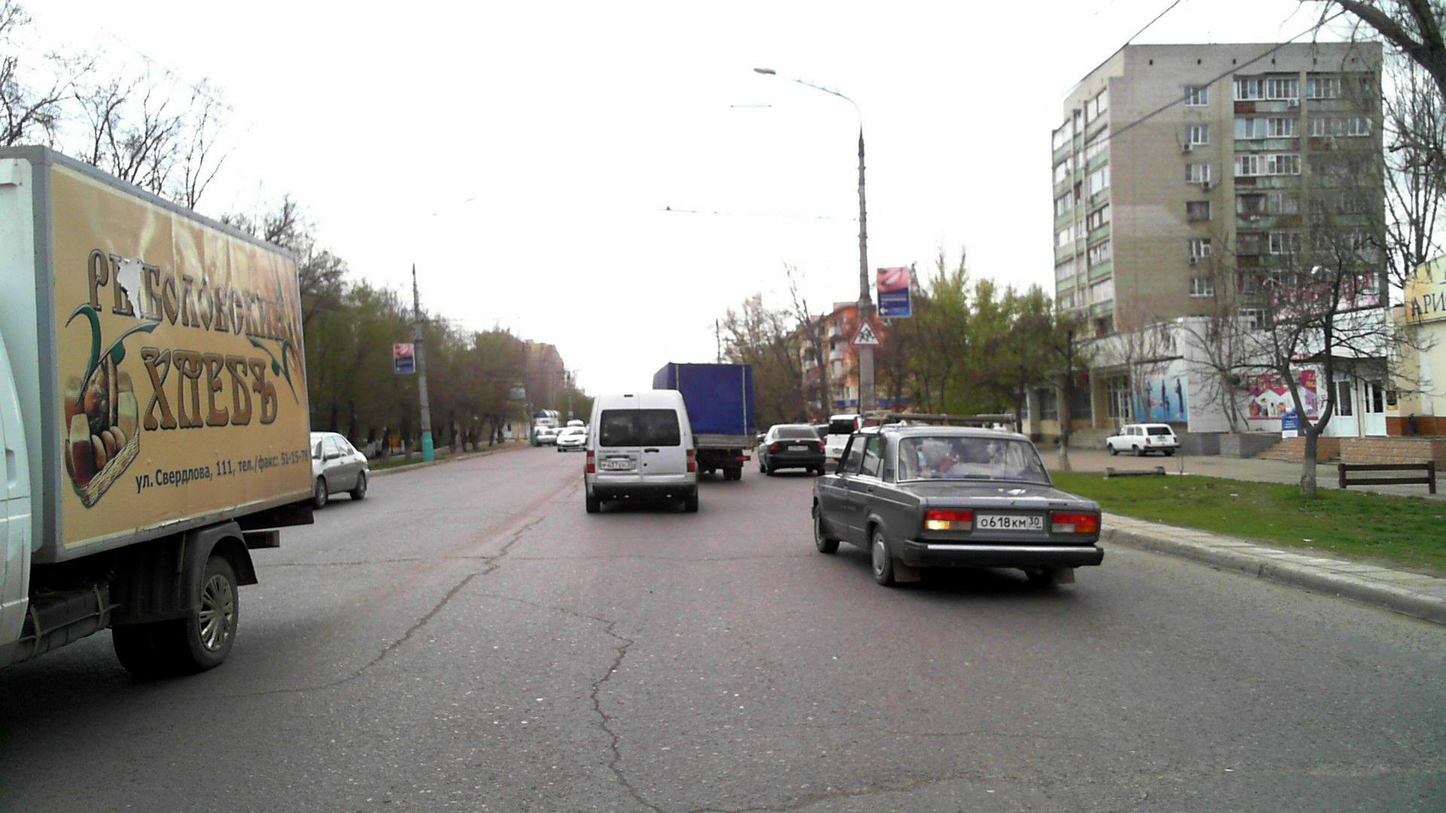road_sign: (850, 316, 884, 348)
